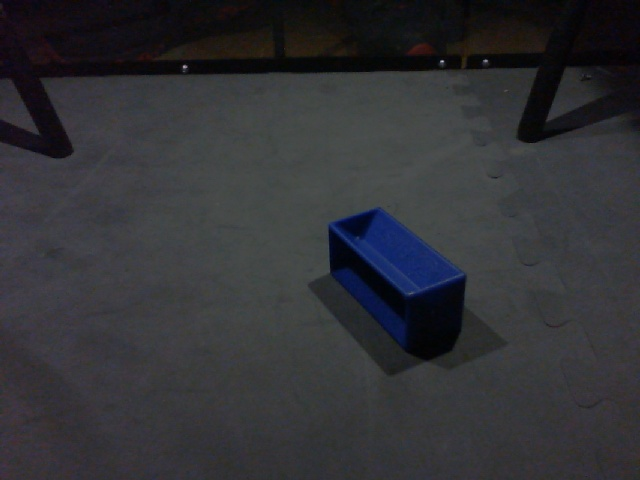BlueSample: (323, 202, 468, 359)
